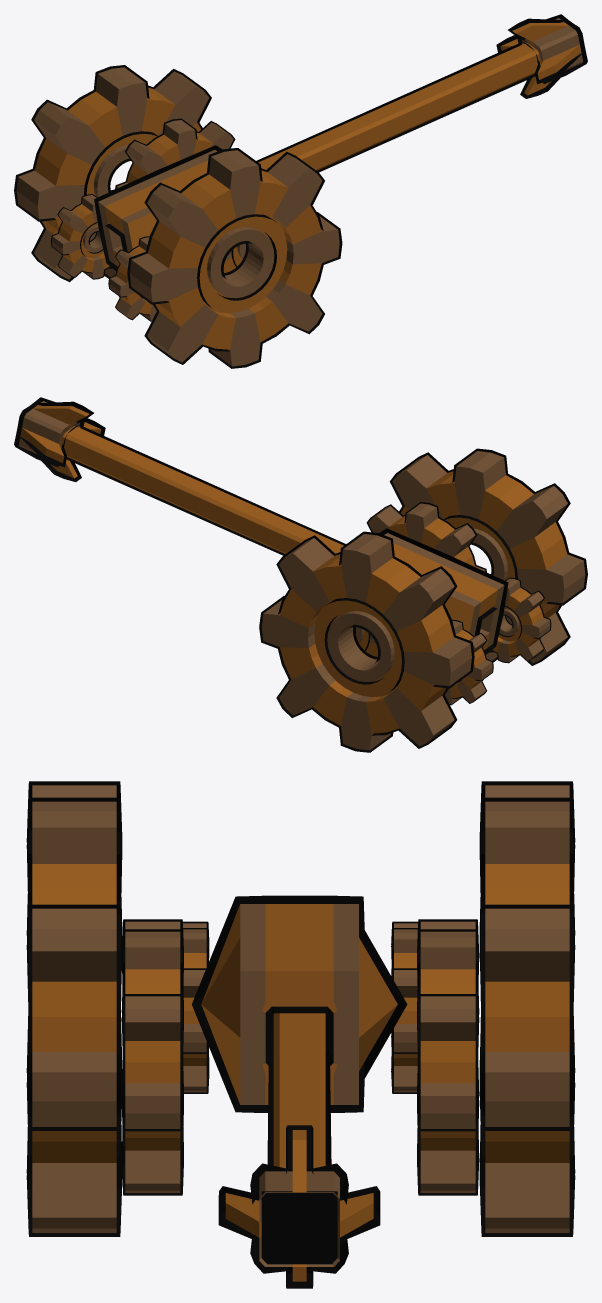
File: Speedy_Tower.fbx
3 views of the same model, one above another, from view 1: azimuth 30°, elevation 25°; view 2: azimuth 150°, elevation 25°; view 3: azimuth 270°, elevation 25° (orthographic). The views are drawn at different scales.
Parts seen in each view (by area): view 1: Cylinder, Cube, Cylinder.002, Cylinder.001; view 2: Cylinder, Cube, Cylinder.002, Cylinder.001; view 3: Cylinder, Cube, Cylinder.001, Cylinder.002, Plane.
Boxes of the visible parts, x1,y1,x2,y2 form: Cylinder: (14, 65, 342, 368); Cube: (94, 14, 587, 270); Cylinder.002: (50, 194, 156, 321); Cylinder.001: (115, 118, 245, 272); Cylinder: (259, 448, 587, 752); Cube: (14, 397, 508, 654); Cylinder.002: (445, 577, 551, 705); Cylinder.001: (355, 502, 486, 656); Cylinder: (26, 781, 575, 1236); Cube: (192, 895, 407, 1288); Cylinder.001: (121, 919, 479, 1195); Cylinder.002: (183, 921, 417, 1093); Plane: (261, 1191, 337, 1264).
Bounding box in the file's own units: 115 × 240 × 97.4.
